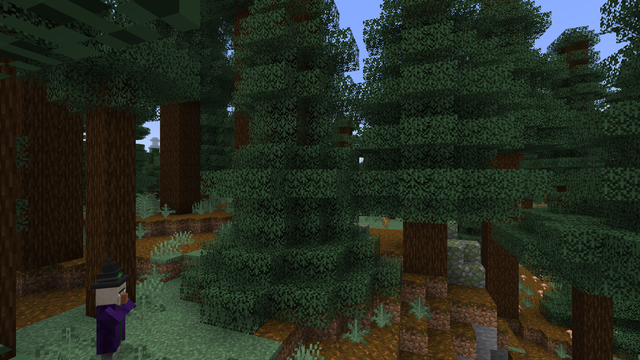sorcieres: (90, 275, 130, 359)
